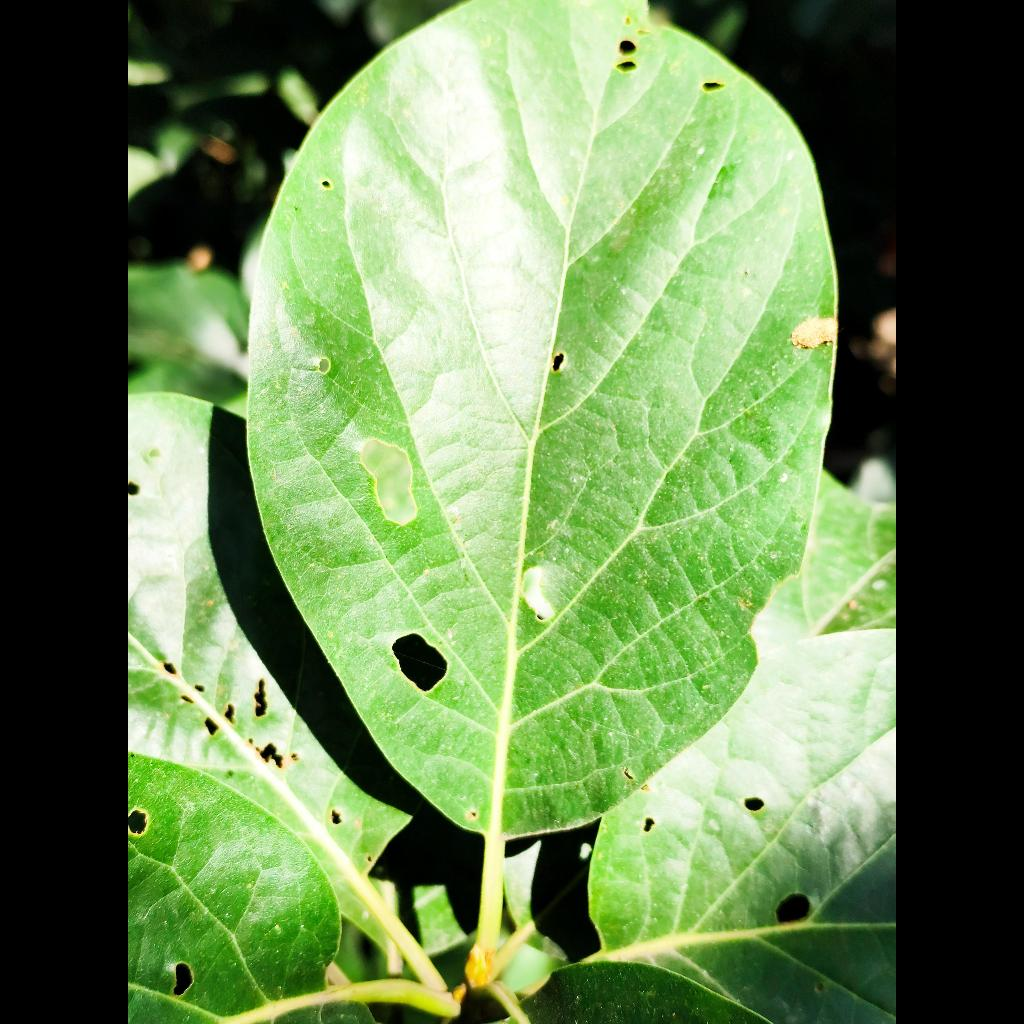Pest Infested: (249, 0, 836, 933)
